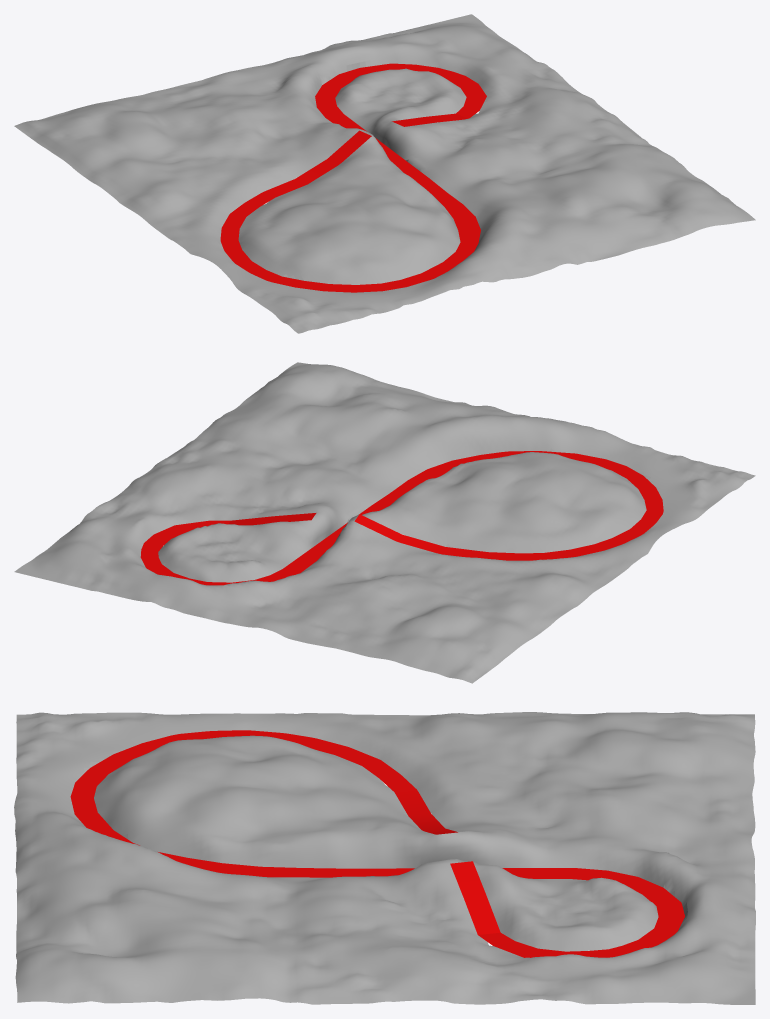
Rendered from mobius.fbx.
3 renders of one model, top to bottom at view 1: azimuth 30°, elevation 25°; view 2: azimuth 150°, elevation 25°; view 3: azimuth 270°, elevation 25°, orthographic. The views are drawn at different scales.
Parts seen in each view (by area): view 1: Terrain, Track; view 2: Terrain, Track; view 3: Terrain, Track.
Boxes of the visible parts, x1,y1,x2,y2 form: Terrain: (14, 14, 755, 333); Track: (220, 63, 486, 292); Terrain: (14, 362, 755, 683); Track: (140, 451, 663, 585); Terrain: (14, 712, 755, 1004); Track: (70, 730, 684, 957).
Size of the model in its own units: 359 by 387 by 18.79.
